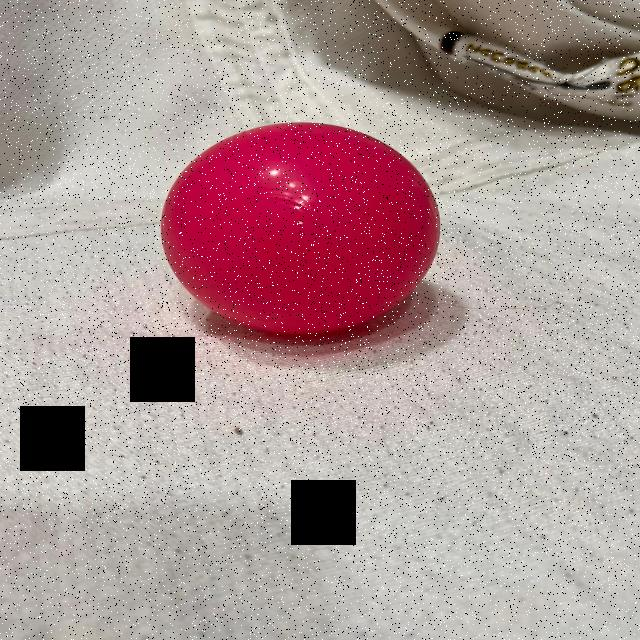ball: (152, 118, 443, 339)
